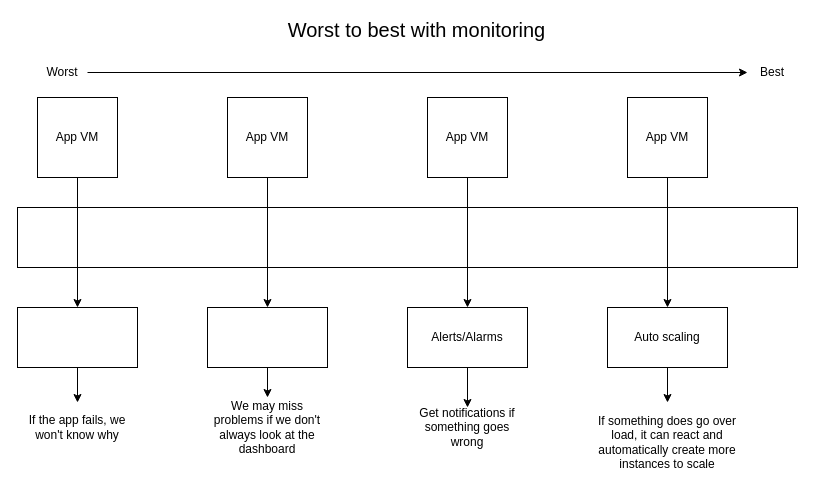
Image size: 815x499. Some labels were removed from this diagram. Each missing label, with the box of its shape:
Dashboards, showing CPU Load and other utilities: (206, 306, 328, 368)
Monitoring with AWS Cloudwatch: (16, 206, 798, 268)
Not utilizing monitoring services: (16, 306, 138, 368)
